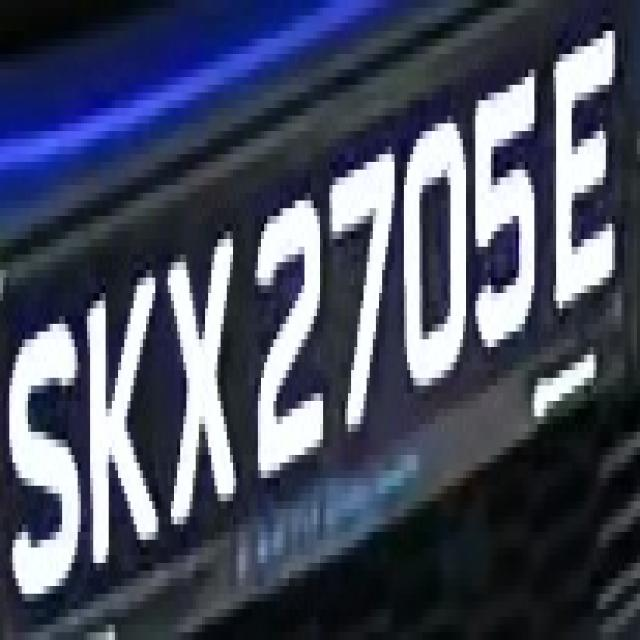0: (392, 100, 482, 401)
2: (245, 193, 338, 501)
5: (463, 70, 547, 370)
7: (323, 146, 401, 455)
E: (544, 39, 621, 316)
K: (71, 262, 174, 578)
S: (9, 286, 84, 602)
X: (158, 224, 240, 532)
